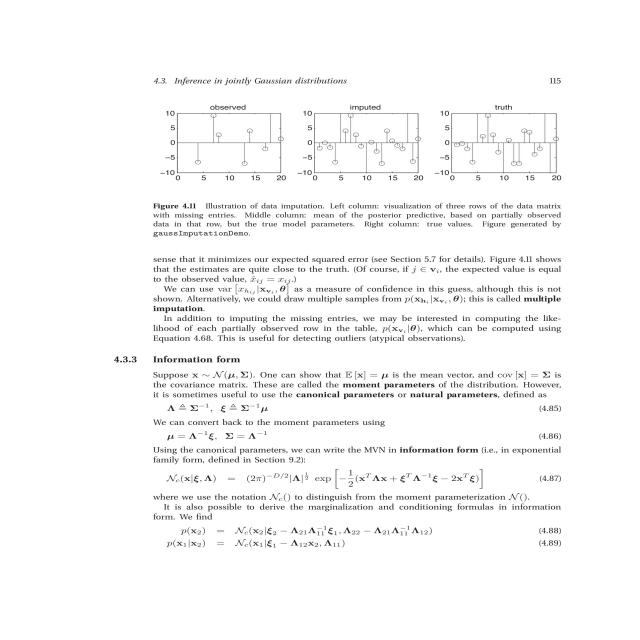diagram: (90, 58, 594, 243)
